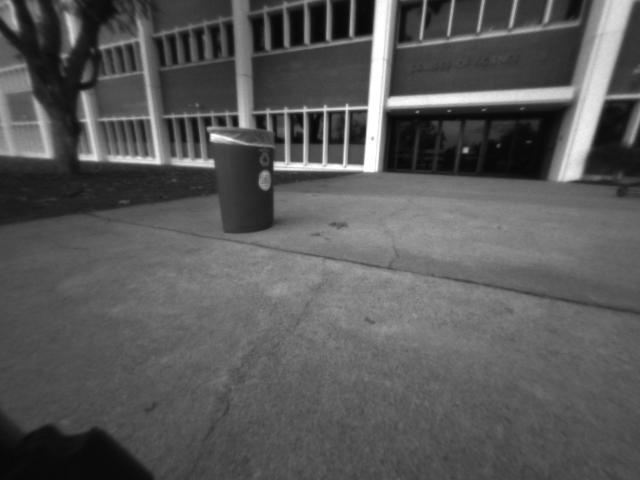trashcan_open: (204, 124, 277, 236)
